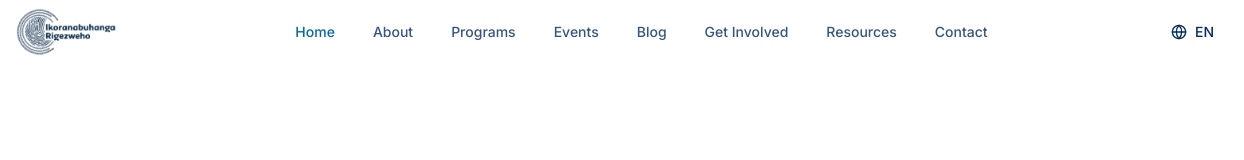
Test: Navigation Component › toggles language when language button is clicked
Click the button with test id "button-language-toggle" at (1192, 32), box [1158,16,1227,48]
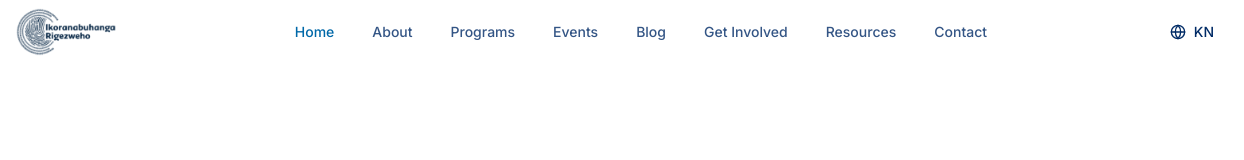
Check: the button with test id "button-language-toggle" reads "KN"
Click the button with test id "button-language-toggle" at (1192, 32), box [1157,16,1227,48]
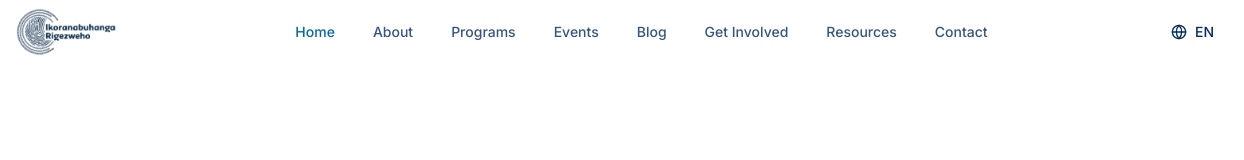
Check: the button with test id "button-language-toggle" reads "EN", box [1158,16,1227,48]
